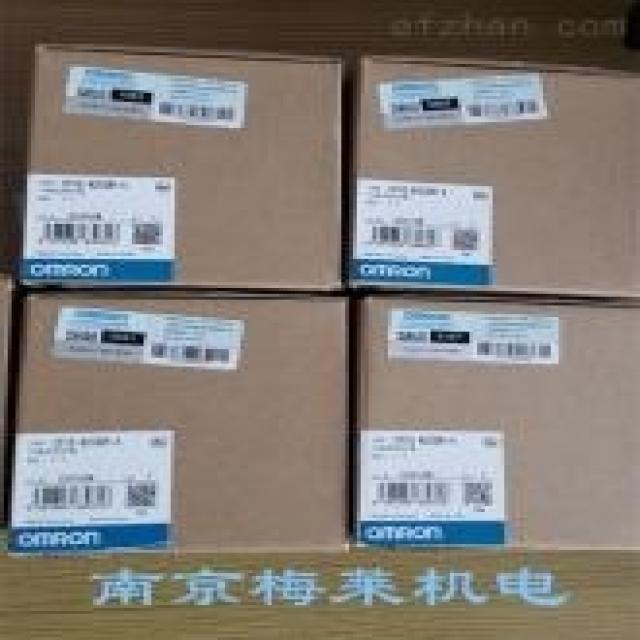box: (8, 285, 349, 556), (19, 47, 345, 288), (353, 291, 640, 550), (349, 55, 640, 300)
